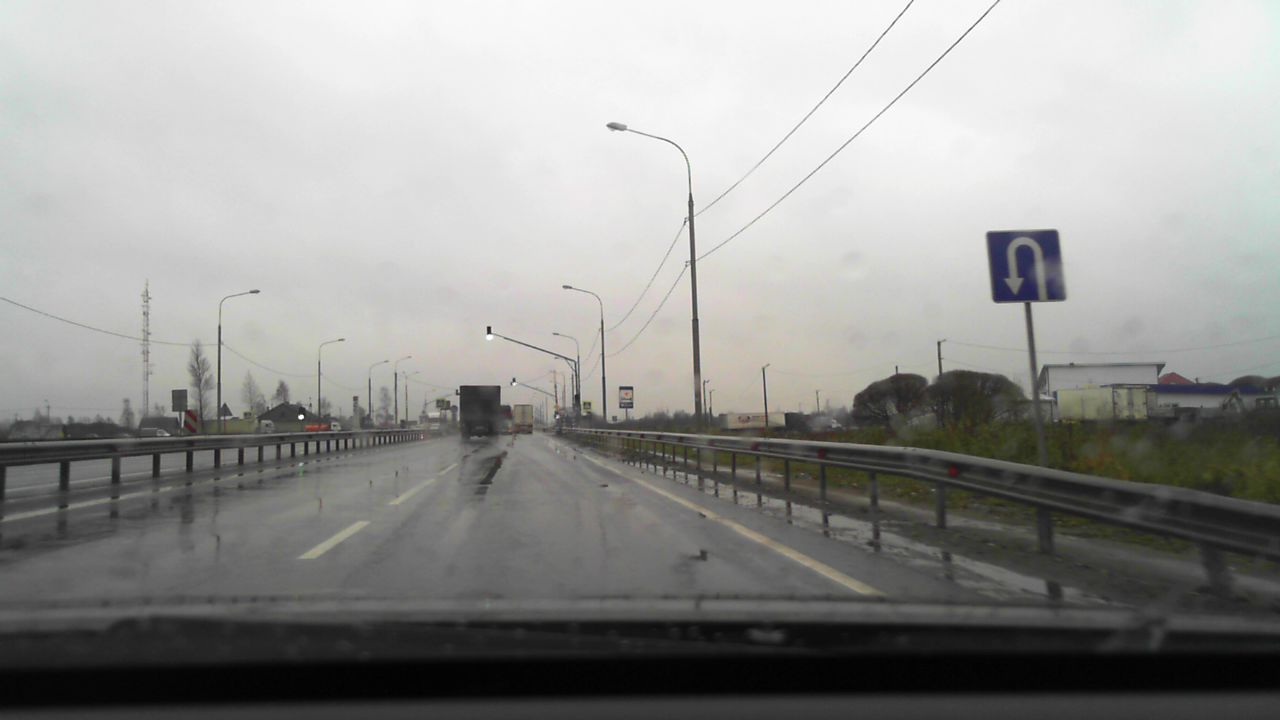U-turn: (987, 230, 1064, 303)
